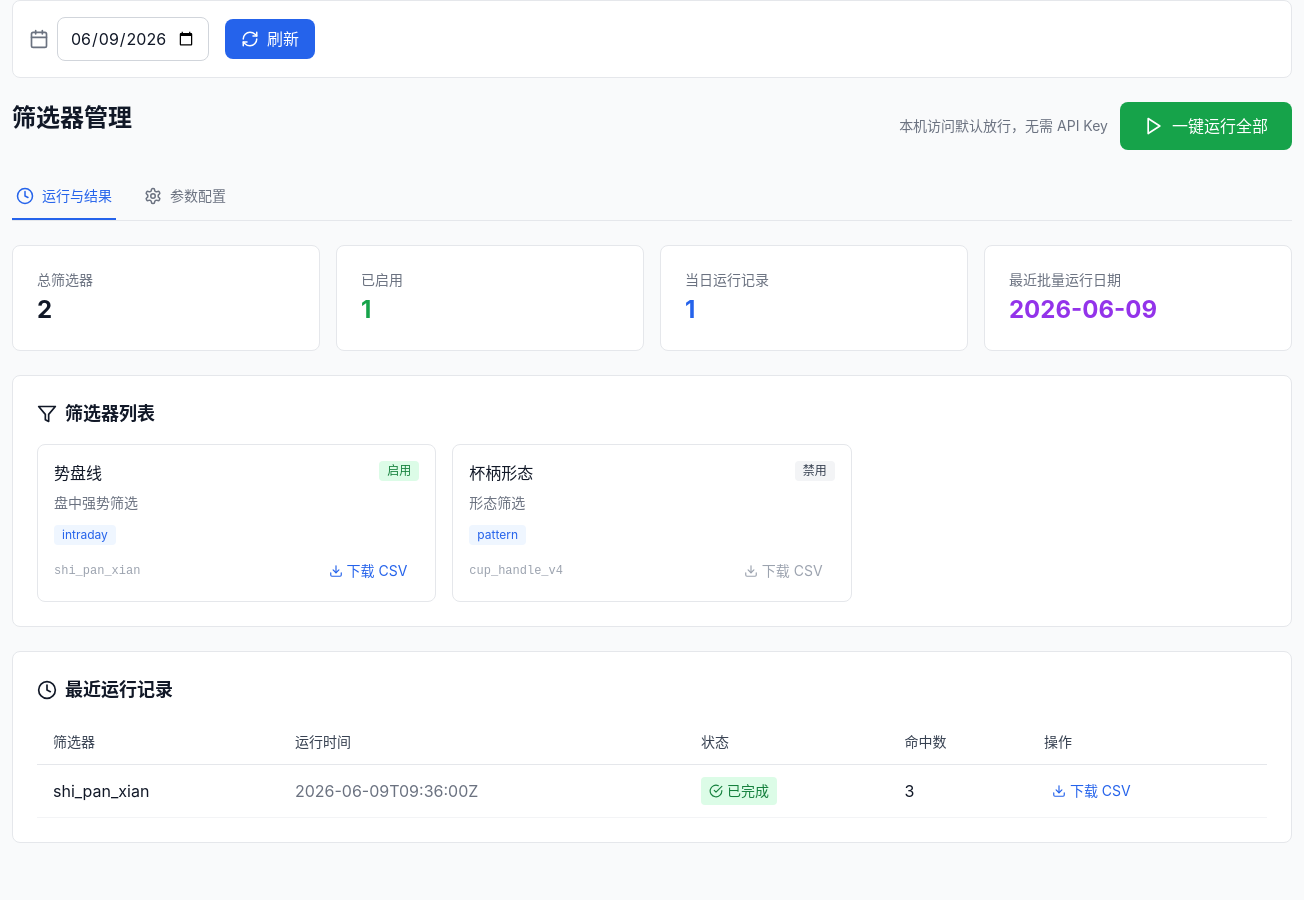
Test: Screeners › loads screener config and saves edited parameters
This screenshot has width=1304, height=900.
expect the heading "势盘线" is shown: met, box [54, 461, 102, 485]
Click the button "参数配置" at (185, 197), box [140, 174, 230, 220]
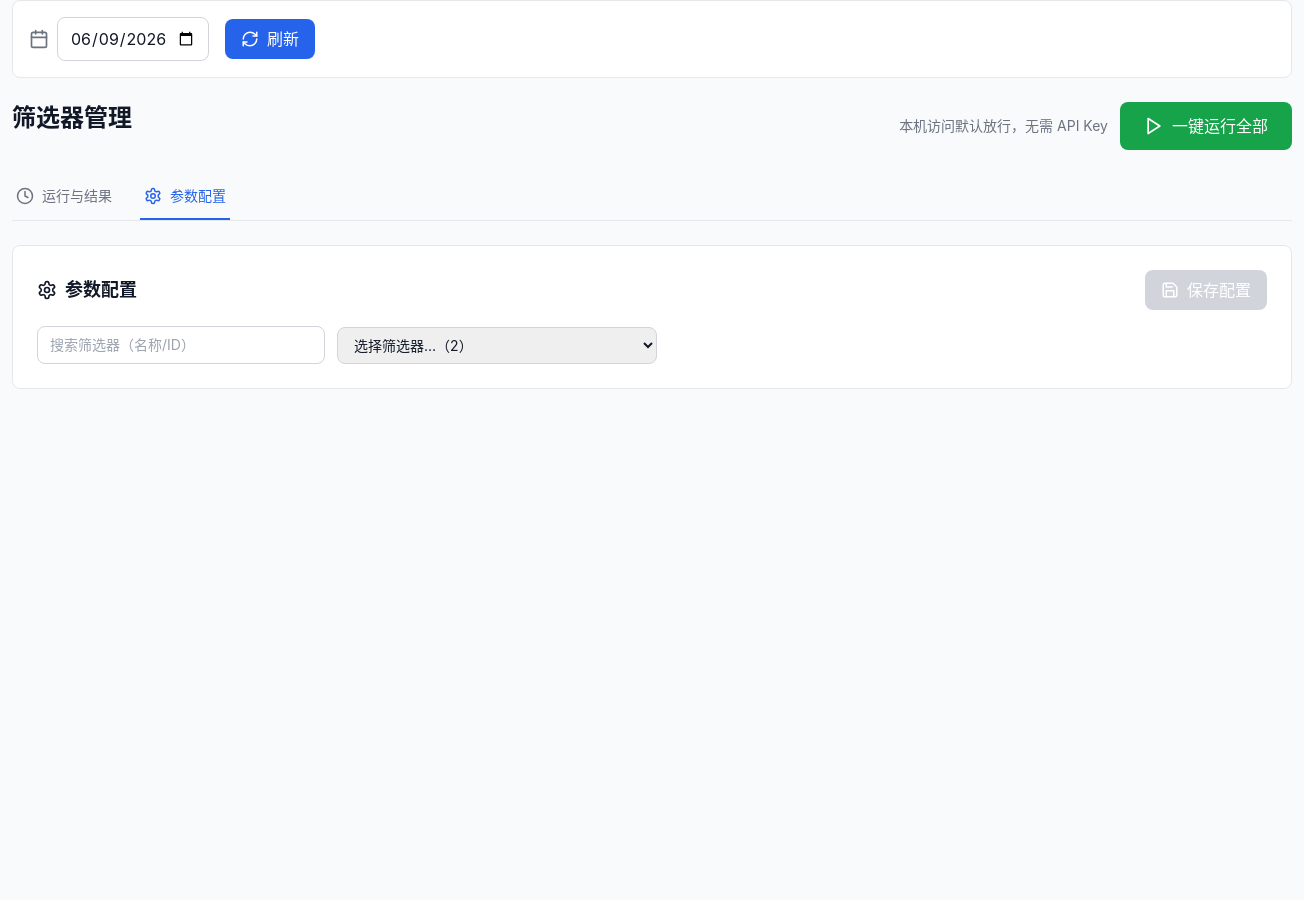
Select "势盘线（shi_pan_xian）" in the dropdown at (497, 345), box [337, 326, 657, 364]
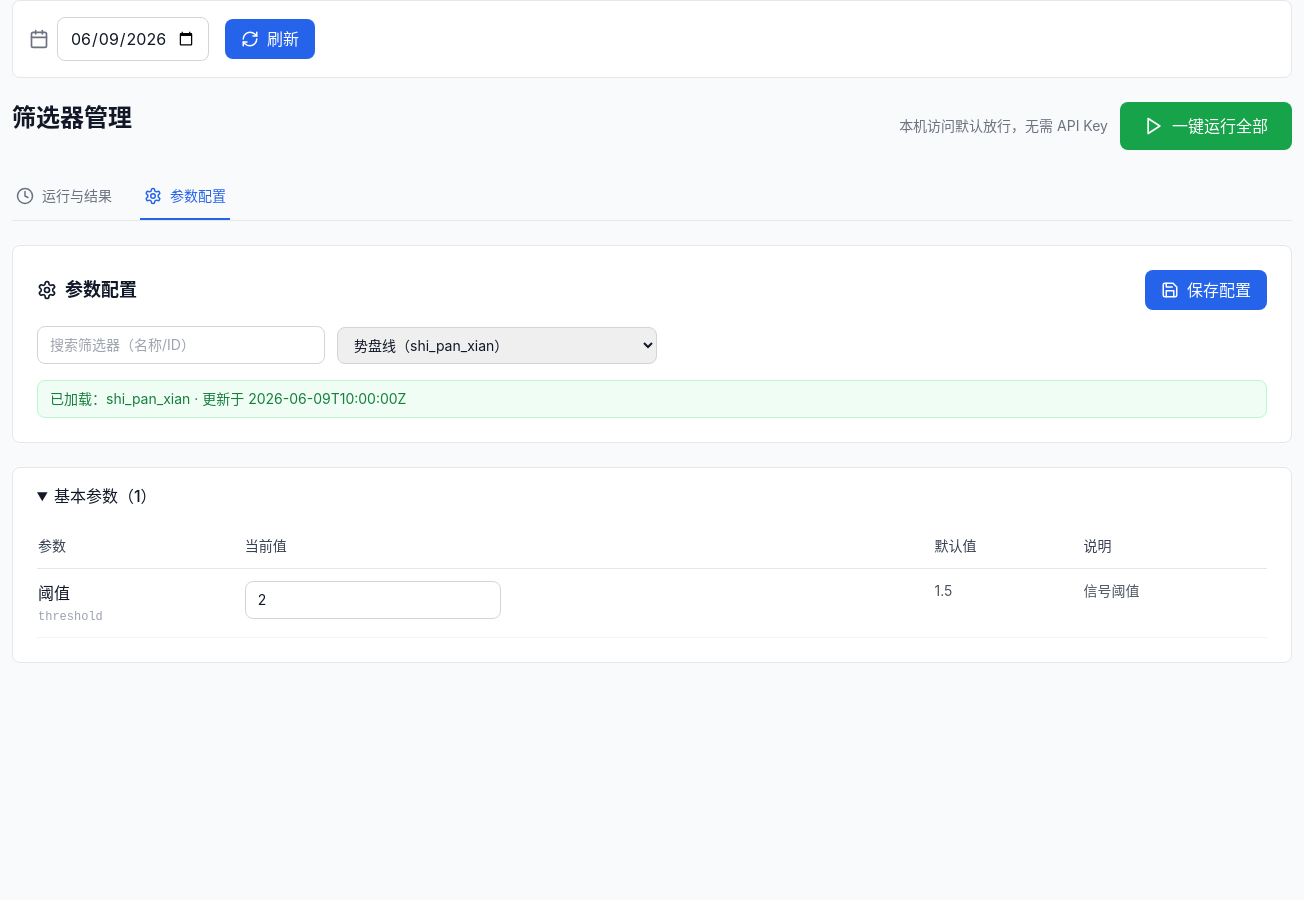
expect the text "已加载：shi_pan_xian · 更新于 2026-06-09T10:00:00Z" is shown: met, box [37, 380, 1267, 418]
Replace the text in the field showing "2" with "2.5" at (373, 600), box [245, 581, 501, 619]
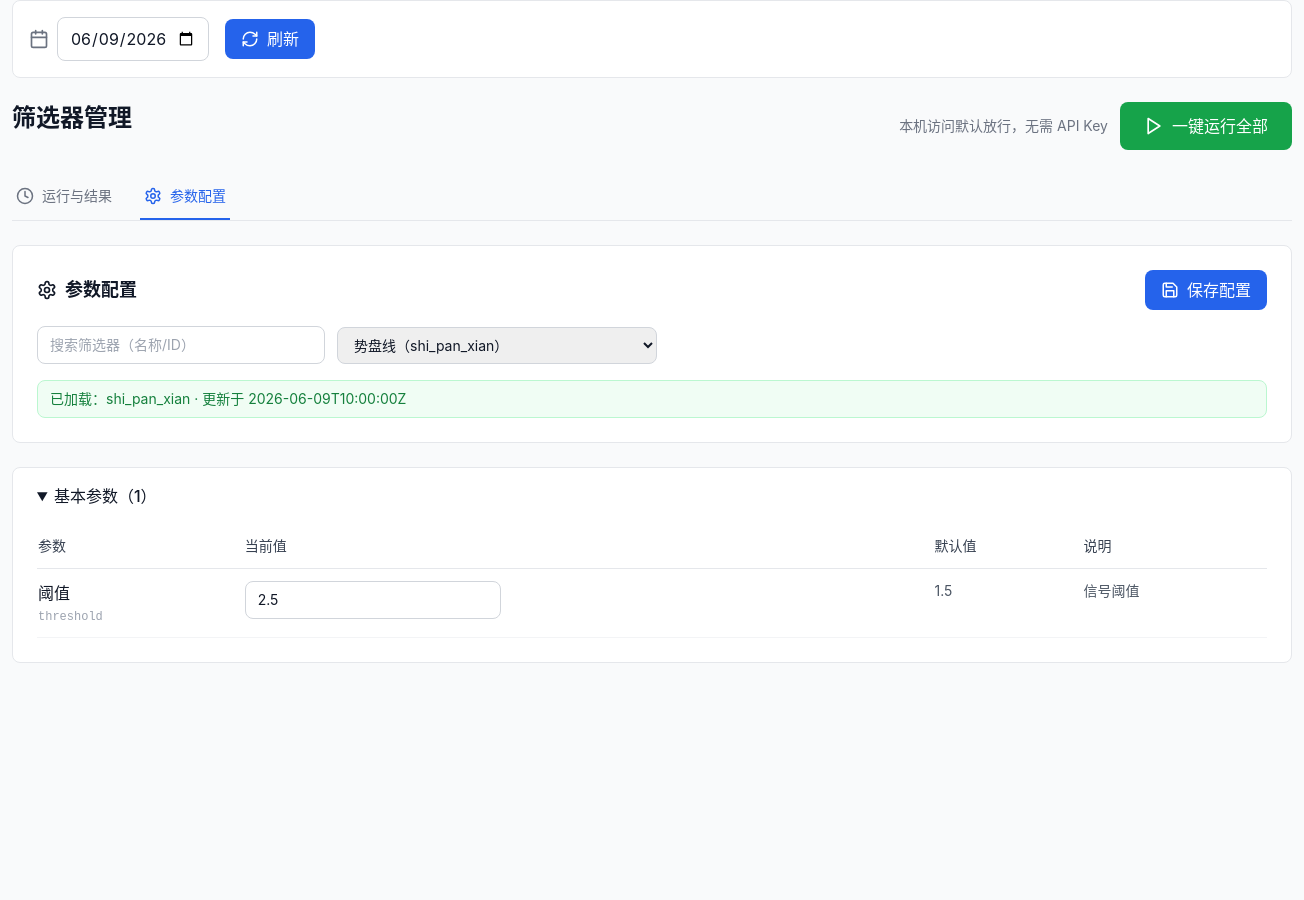
Click the button "保存配置" at (1206, 290), box [1145, 270, 1267, 310]
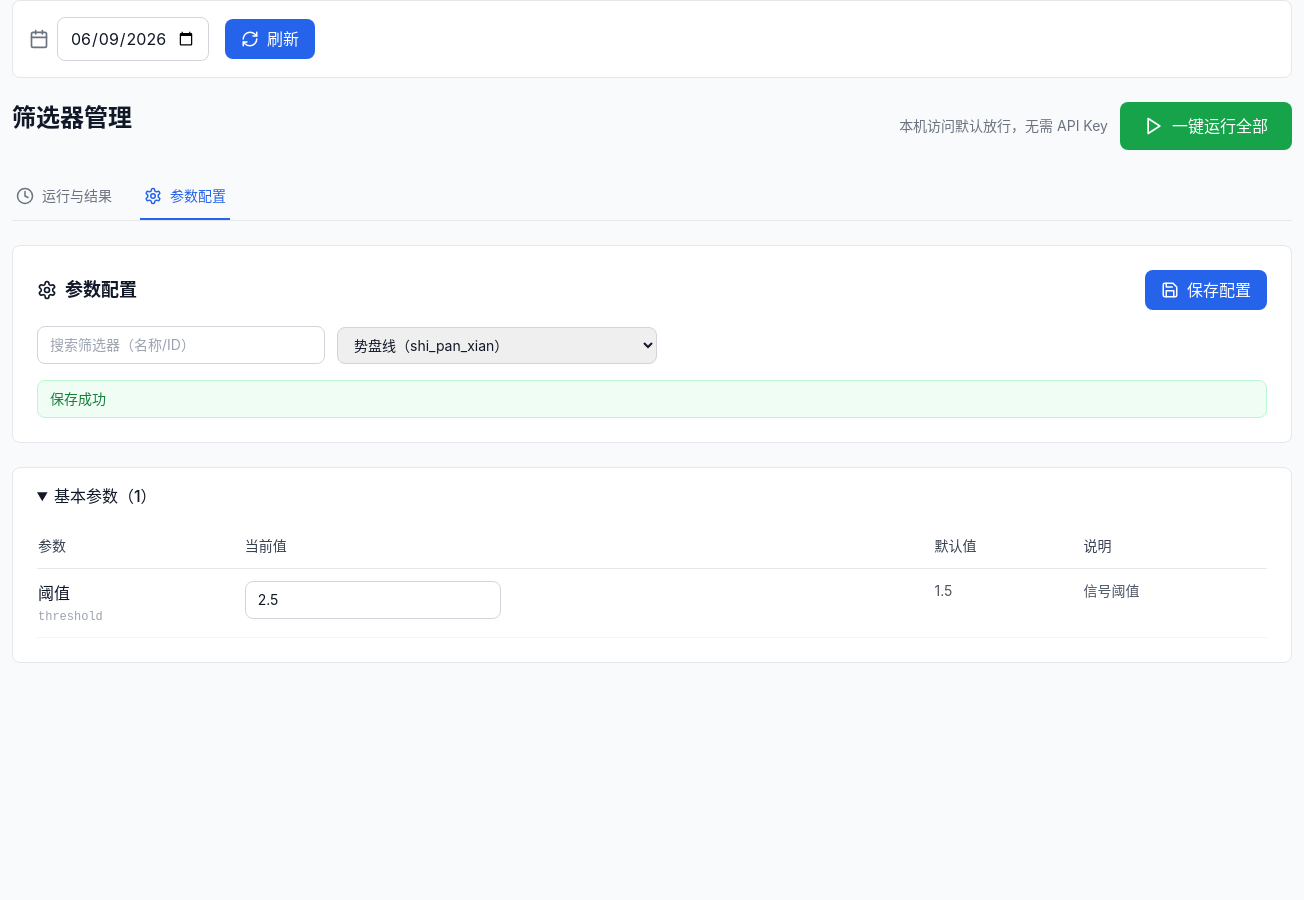
expect the text "保存成功" is shown: met, box [37, 380, 1267, 418]
